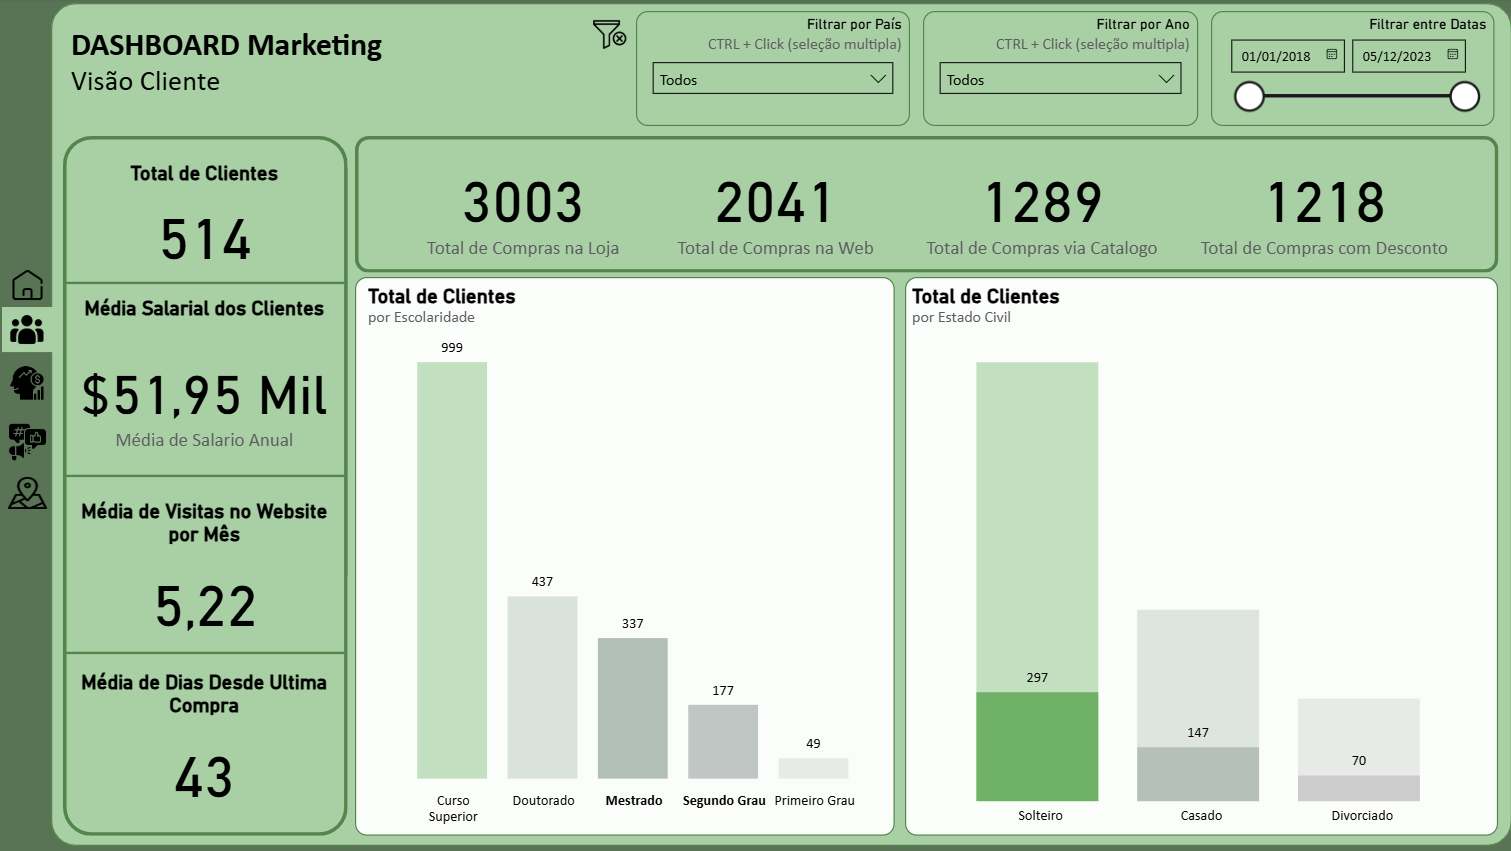

Layout of this report page (visuals, bound fields, positions):
{"tool":"powerbi","page":{"name":"Visão Cliente","canvas":[1280,720],"ordinal":1},"visuals":[{"type":"group","id":"g1","title":"Grupo 1","box":[48.1,4.2,1231.8,710.7],"z":0},{"type":"shape","box":[48.1,4.2,1231.8,710.7],"z":0,"group":"g1"},{"type":"shape","title":"Total de Vendas por Frente e Método","box":[304.6,116.3,964,115.3],"z":0,"group":"g3"},{"type":"group","id":"g2","title":"Grupo 3","box":[58.3,116.4,240,590],"z":0,"group":"g4"},{"type":"shape","box":[58.3,116.4,240,590],"z":0,"group":"g2"},{"type":"textbox","box":[59.8,17.6,314,73.6],"z":1000,"group":"g1"},{"type":"group","id":"g3","title":"Grupo 1","box":[304.6,116.3,964,115.3],"z":1000},{"type":"card","title":"Total de Clientes","fields":{"Values":["CountNonNull(Dados_Marketing.ID)"]},"box":[65.2,137.8,224.6,101.2],"z":1000,"group":"g7"},{"type":"shape","box":[58.3,547.3,239.1,10],"z":1000,"group":"g4"},{"type":"slicer","title":"Filtrar por Ano","fields":{"Values":["Dados_Marketing.Data Cadastro.Variation.Hierarquia de datas.Ano"]},"box":[783.5,10.6,231.8,97.4],"z":2000,"group":"g1"},{"type":"columnChart","title":"Total de Clientes","fields":{"Category":["Dados_Marketing.Escolaridade"],"Y":["CountNonNull(Dados_Marketing.ID)"]},"box":[304.6,235.5,454.5,470.9],"z":2000},{"type":"card","title":"Média Salarial dos Clientes","fields":{"Values":["Avg(Dados_Marketing.Salario Anual)"]},"box":[64.2,251.9,226.4,156],"z":2000,"group":"g7"},{"type":"shape","box":[58.3,398.2,239.1,10],"z":2000,"group":"g4"},{"type":"slicer","title":"Filtrar por País","fields":{"Values":["Dados_Marketing.Pais"]},"box":[541.7,10.6,230.9,97.4],"z":3000,"group":"g1"},{"type":"card","fields":{"Values":["Sum(Dados_Marketing.Numero de Compras na Loja)"]},"box":[343.5,125.1,206.1,101.5],"z":3000,"group":"g3"},{"type":"shape","box":[59.2,235.5,239.1,10],"z":3000,"group":"g4"},{"type":"columnChart","title":"Total de Clientes","fields":{"Category":["Dados_Marketing.Estado Civil"],"Y":["CountNonNull(Dados_Marketing.ID)"]},"box":[768.3,235.5,500,470.9],"z":3000},{"type":"image","box":[7,398.9,42.7,37.3],"z":3000,"group":"g6"},{"type":"slicer","title":"Filtrar entre Datas","fields":{"Values":["Dados_Marketing.Data Cadastro"]},"box":[1026.2,10.6,239.1,97.4],"z":4000,"group":"g1"},{"type":"group","id":"g4","title":"Grupo 4","box":[58.3,116.4,240,590],"z":4000},{"type":"card","fields":{"Values":["Sum(Dados_Marketing.Numero de Compras na Web)"]},"box":[551.6,125.1,215.1,102.5],"z":4000,"group":"g3"},{"type":"image","box":[7,260.7,42.7,38.2],"z":4000,"group":"g6"},{"type":"card","title":"Média de Visitas no Website por Mês","fields":{"Values":["Avg(Dados_Marketing.Numero Visitas WebSite Mes)"]},"box":[64.2,422.9,226.4,130.4],"z":4000,"group":"g7"},{"type":"card","fields":{"Values":["Sum(Dados_Marketing.Numero de Compras via Catalogo)"]},"box":[768.6,125.1,231,101.5],"z":5000,"group":"g3"},{"type":"group","id":"g5","title":"Grupo 5","box":[7,223.6,42.7,212.7],"z":5000},{"type":"group","id":"g6","title":"Grupo 2","box":[7,260.7,42.7,175.5],"z":5000,"group":"g5"},{"type":"image","box":[7,303.4,42.7,41.8],"z":5000,"group":"g6"},{"type":"image","box":[498.9,11.9,39.8,37.8],"z":6000},{"type":"card","fields":{"Values":["Sum(Dados_Marketing.Numero de Compras com Desconto)"]},"box":[1001.6,125.1,240,101.5],"z":6000,"group":"g3"},{"type":"image","box":[7,223.6,42.6,37.2],"z":6000,"group":"g5"},{"type":"image","box":[7,349.8,42.7,48.2],"z":6000,"group":"g6"},{"type":"card","title":"Média de Dias Desde Ultima Compra","fields":{"Values":["Avg(Dados_Marketing.Dias Desde Ultima Compra)"]},"box":[64.1,567.1,226.4,130.4],"z":6000,"group":"g7"},{"type":"group","id":"g7","title":"Grupo 2","box":[64.1,137.8,226.4,559.7],"z":6001,"group":"g2"}]}

Visuals, with their boxes in screenshot pixels (x1, y1, x2, y2), scaled from the page's 1280x720 canvas onto the 1511x851 screenshot:
"Grupo 1" group: l=57, t=5, r=1510, b=845
shape: l=57, t=5, r=1510, b=845
"Total de Vendas por Frente e Método" shape: l=360, t=137, r=1498, b=274
"Grupo 3" group: l=69, t=138, r=352, b=835
shape: l=69, t=138, r=352, b=835
textbox: l=71, t=21, r=441, b=108
"Grupo 1" group: l=360, t=137, r=1498, b=274
"Total de Clientes" card: l=77, t=163, r=342, b=282
shape: l=69, t=647, r=351, b=659
"Filtrar por Ano" slicer: l=925, t=13, r=1199, b=128
"Total de Clientes" columnChart: l=360, t=278, r=896, b=835
"Média Salarial dos Clientes" card: l=76, t=298, r=343, b=482
shape: l=69, t=471, r=351, b=482
"Filtrar por País" slicer: l=639, t=13, r=912, b=128
card - Sum(Dados_Marketing.Numero de Compras na Loja): l=405, t=148, r=649, b=268
shape: l=70, t=278, r=352, b=290
"Total de Clientes" columnChart: l=907, t=278, r=1497, b=835
image: l=8, t=471, r=59, b=516
"Filtrar entre Datas" slicer: l=1211, t=13, r=1494, b=128
"Grupo 4" group: l=69, t=138, r=352, b=835
card - Sum(Dados_Marketing.Numero de Compras na Web): l=651, t=148, r=905, b=269
image: l=8, t=308, r=59, b=353
"Média de Visitas no Website por Mês" card: l=76, t=500, r=343, b=654
card - Sum(Dados_Marketing.Numero de Compras via Catalogo): l=907, t=148, r=1180, b=268
"Grupo 5" group: l=8, t=264, r=59, b=516
"Grupo 2" group: l=8, t=308, r=59, b=516
image: l=8, t=359, r=59, b=408
image: l=589, t=14, r=636, b=59
card - Sum(Dados_Marketing.Numero de Compras com Desconto): l=1182, t=148, r=1466, b=268
image: l=8, t=264, r=59, b=308
image: l=8, t=413, r=59, b=470
"Média de Dias Desde Ultima Compra" card: l=76, t=670, r=343, b=824
"Grupo 2" group: l=76, t=163, r=343, b=824
